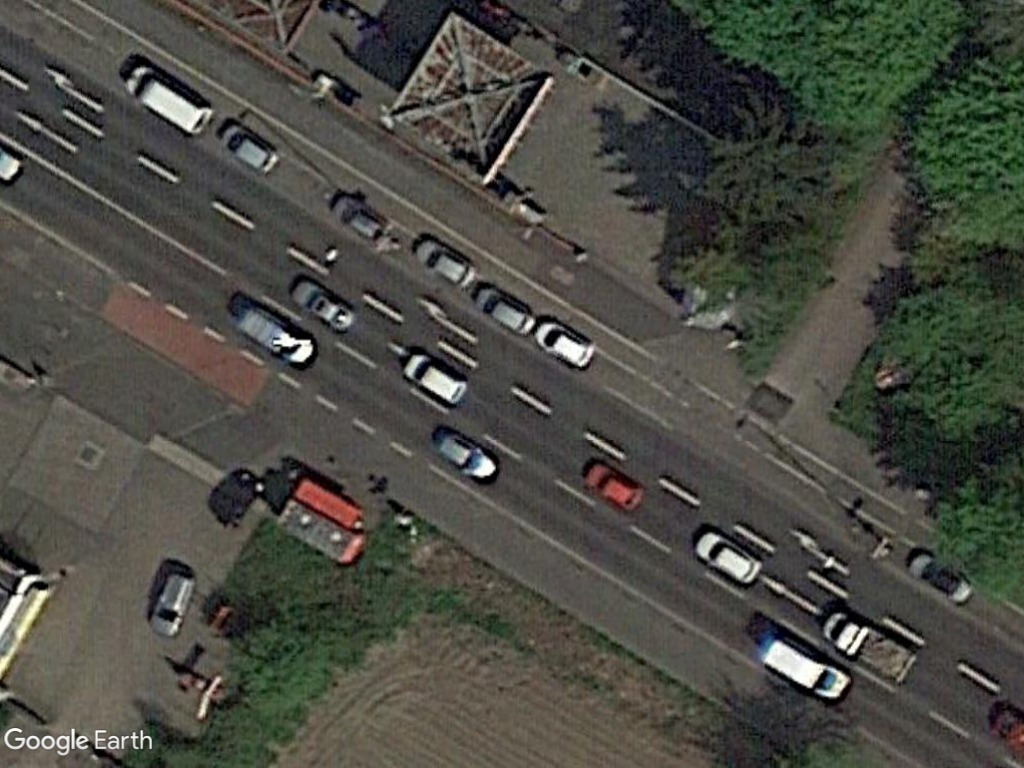car: (392, 341, 477, 419), (900, 535, 973, 619), (692, 514, 761, 602), (430, 411, 499, 492), (325, 180, 400, 254), (571, 449, 649, 519), (284, 270, 357, 341), (141, 560, 203, 640), (530, 308, 602, 376), (469, 277, 542, 341), (216, 114, 284, 178), (408, 227, 477, 289)
truck: (819, 586, 925, 692)
van: (751, 618, 855, 709), (119, 55, 216, 147)
